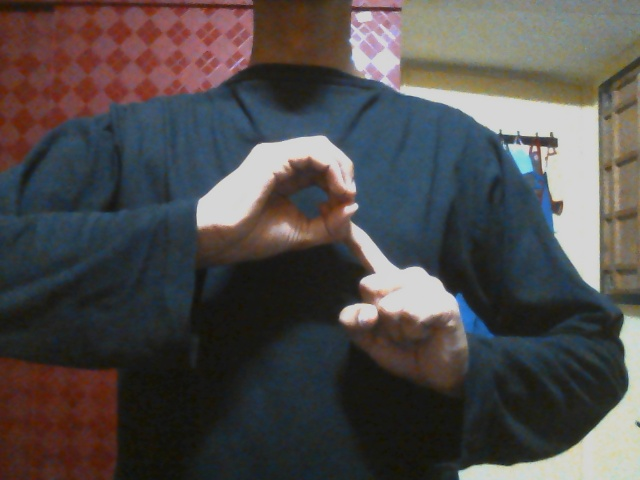Q: (209, 133, 467, 400)
